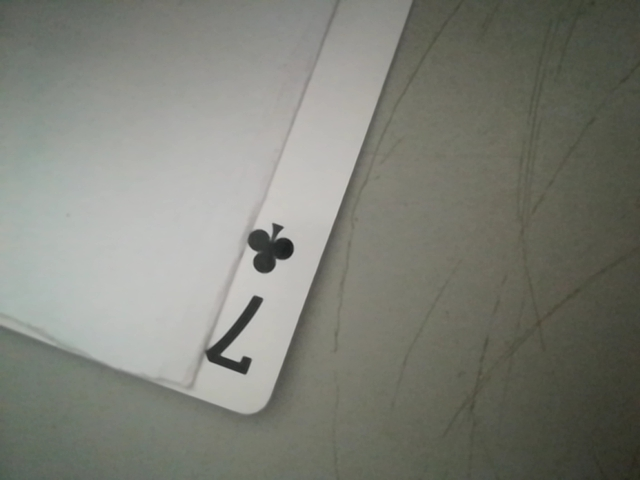mh 7: (204, 214, 310, 395)
